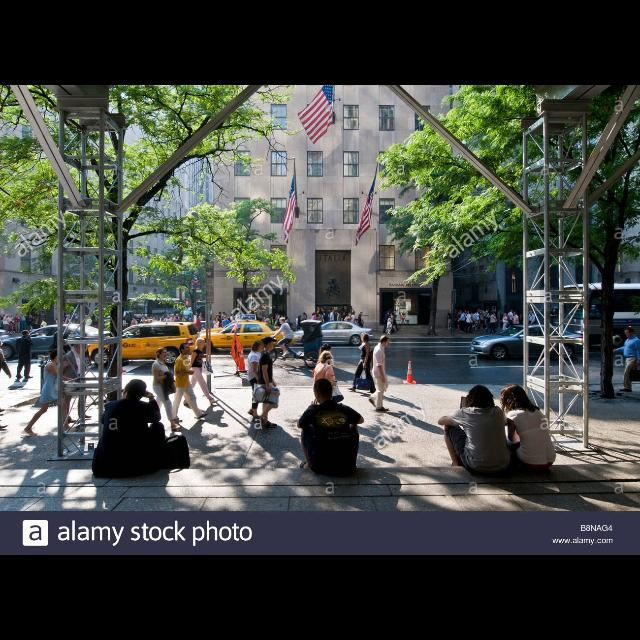head: (502, 384, 526, 412), (314, 378, 334, 406), (470, 386, 492, 410), (122, 380, 146, 400), (75, 342, 88, 356), (264, 339, 276, 351), (252, 340, 264, 352), (321, 352, 333, 364), (52, 351, 62, 364), (156, 349, 168, 359), (180, 343, 190, 355), (380, 336, 390, 348), (624, 328, 634, 339), (196, 338, 206, 348), (322, 345, 332, 355), (362, 334, 370, 344), (278, 318, 286, 324), (24, 331, 31, 337), (352, 312, 356, 316), (394, 310, 398, 314), (492, 311, 496, 315), (552, 310, 556, 314), (6, 316, 10, 318), (10, 315, 12, 319), (332, 310, 334, 314), (348, 314, 352, 316), (388, 310, 390, 314), (514, 312, 516, 316), (511, 310, 514, 312), (16, 316, 18, 318), (43, 320, 45, 322), (337, 312, 339, 314), (390, 317, 392, 319), (530, 312, 532, 314)
person: (90, 378, 190, 479), (438, 384, 514, 480), (296, 378, 364, 478), (499, 384, 557, 472), (24, 349, 78, 436), (172, 342, 210, 423), (252, 336, 282, 430), (152, 348, 182, 432), (183, 338, 219, 406), (65, 344, 93, 422), (346, 332, 376, 394), (313, 351, 345, 405), (368, 334, 390, 412), (247, 340, 265, 422), (272, 318, 300, 360), (15, 330, 35, 380), (316, 343, 334, 393), (382, 310, 392, 334), (506, 309, 516, 331), (392, 310, 400, 334), (489, 312, 497, 336), (2, 314, 10, 336), (512, 312, 520, 334), (13, 314, 21, 334), (528, 310, 536, 330), (550, 309, 558, 327), (8, 314, 14, 336), (40, 318, 48, 334), (387, 316, 393, 336), (344, 312, 352, 326), (329, 310, 335, 326), (336, 311, 342, 325), (350, 312, 356, 326)
